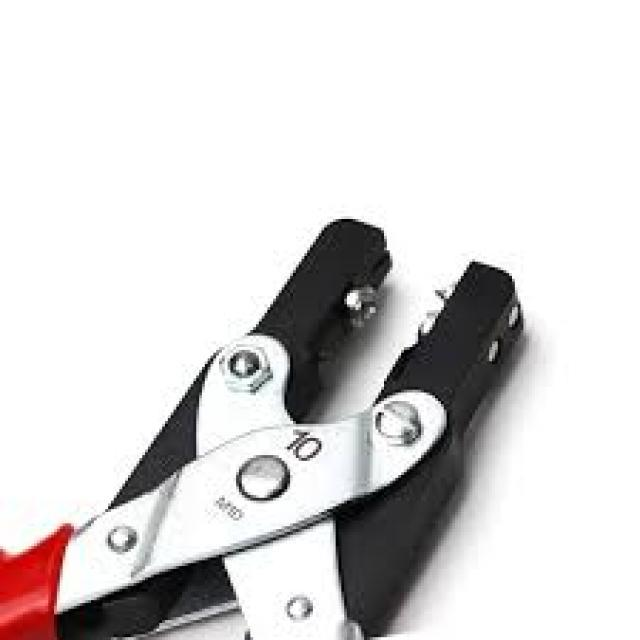pliers: (0, 182, 538, 640)
